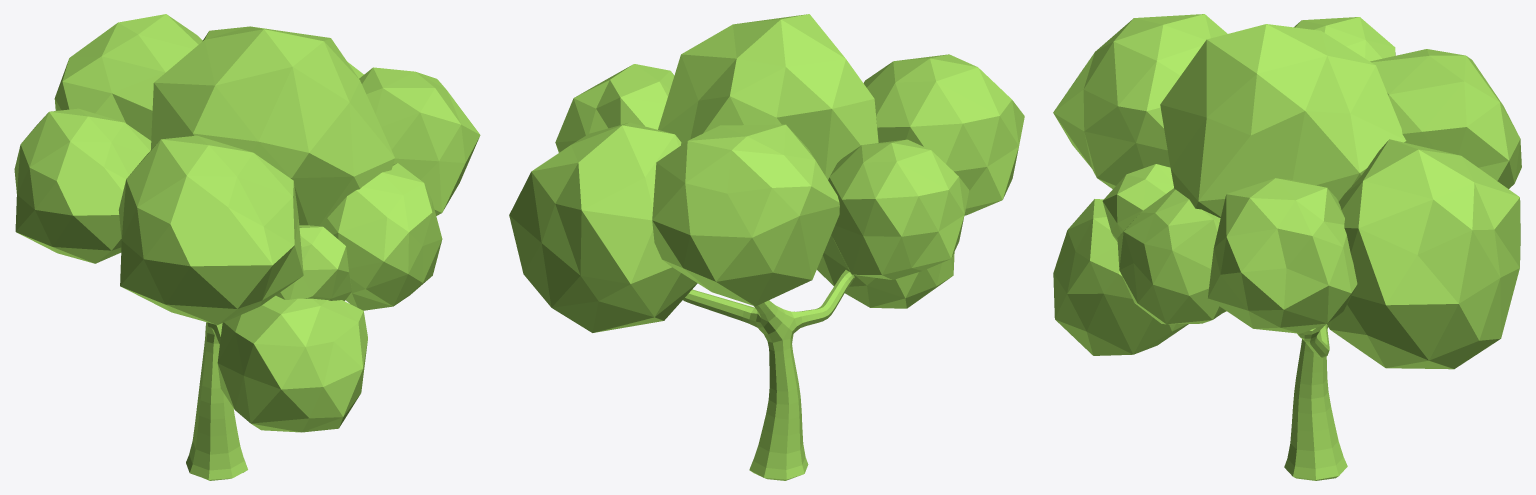
File: Tree4.fbx
3 renders of one model, left to right at view 1: azimuth 30°, elevation 25°; view 2: azimuth 150°, elevation 25°; view 3: azimuth 270°, elevation 25°, orthographic. The views are drawn at different scales.
Visible parts, largest first — view 1: Laubbaum.001; view 2: Laubbaum.001; view 3: Laubbaum.001.
Part boxes in pixels (<box>): Laubbaum.001: <box>14,14,480,480</box>; Laubbaum.001: <box>509,14,1024,480</box>; Laubbaum.001: <box>1053,14,1521,480</box>.
Size of the model in its own units: 990 by 1012 by 937.
